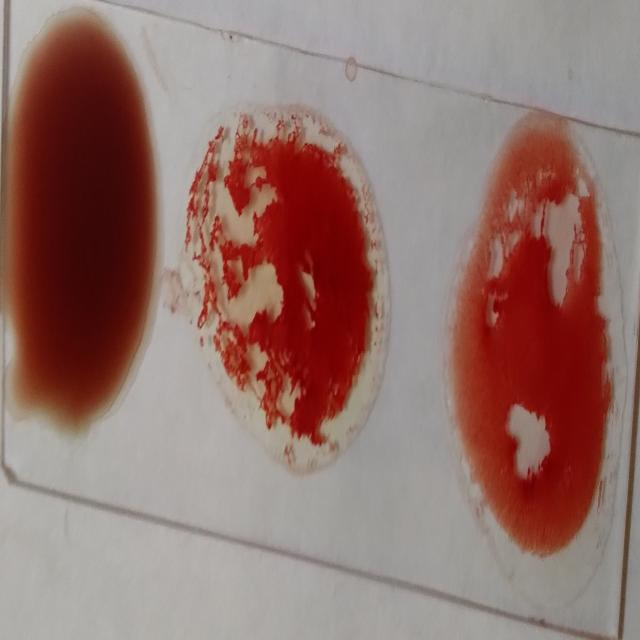B: (189, 111, 393, 472)
D: (451, 124, 623, 600)
